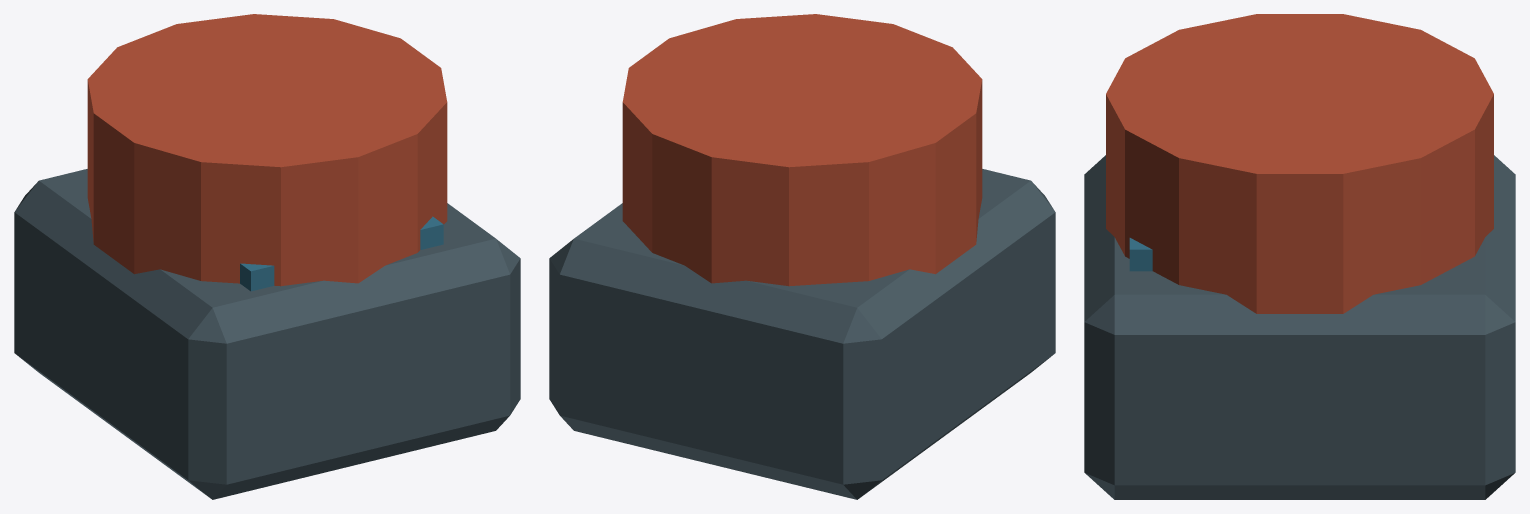
File: set_wire_spool.glb
3 views of the same model, side by side, from view 1: azimuth 30°, elevation 25°; view 2: azimuth 150°, elevation 25°; view 3: azimuth 270°, elevation 25° (orthographic). The views are drawn at different scales.
Parts seen in each view (by area): view 1: set_wire_spool; view 2: set_wire_spool; view 3: set_wire_spool.
Boxes of the visible parts, box(x1,y1,x2,y2) form: set_wire_spool: box(14, 14, 520, 499); set_wire_spool: box(549, 14, 1055, 499); set_wire_spool: box(1084, 14, 1515, 499).
Bounding box in the file's own units: 0.19 × 0.17 × 0.2.
